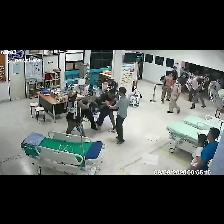person: (107, 88, 128, 144), (66, 91, 91, 136), (193, 128, 219, 170), (82, 96, 106, 130), (96, 89, 115, 130), (189, 135, 207, 169), (168, 78, 184, 113), (190, 77, 205, 109), (162, 72, 172, 104), (171, 67, 177, 83)
